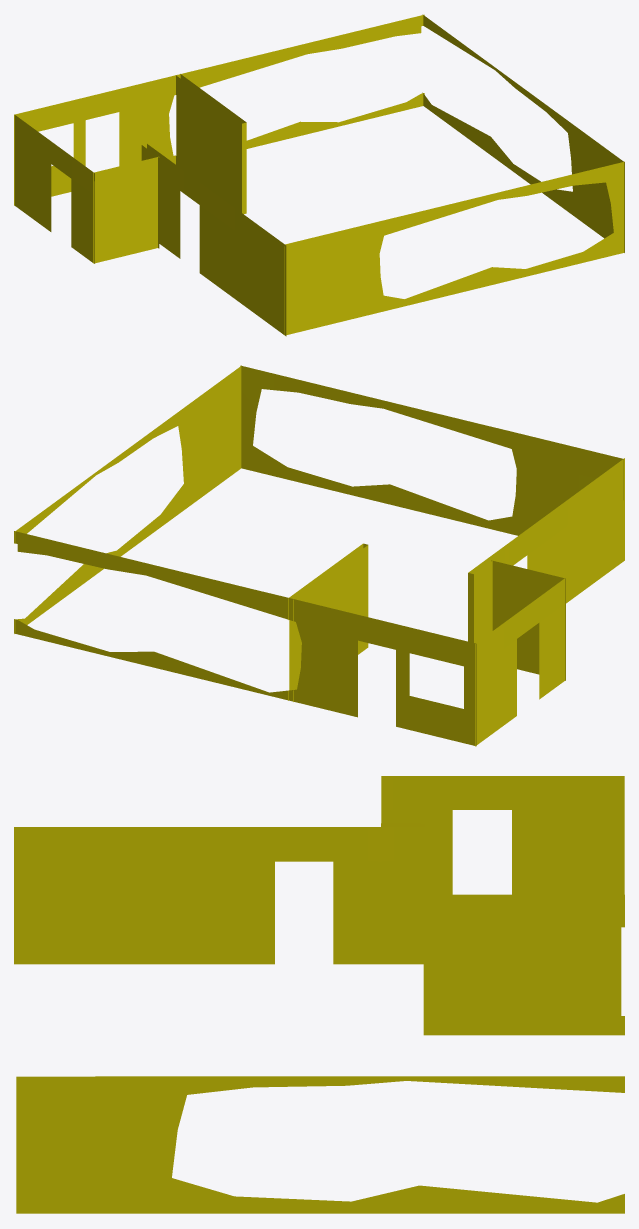
The model's file is BH03_WP_02_Break.fbx.
3 views of the same model, one above another, from view 1: azimuth 30°, elevation 25°; view 2: azimuth 150°, elevation 25°; view 3: azimuth 270°, elevation 25° (orthographic). The views are drawn at different scales.
Visible parts, largest first — view 1: BH03_WP_02_Break; view 2: BH03_WP_02_Break; view 3: BH03_WP_02_Break.
Part boxes in pixels (left/top/right/bottom): BH03_WP_02_Break: left=14, top=14, right=624, bottom=336; BH03_WP_02_Break: left=14, top=365, right=624, bottom=746; BH03_WP_02_Break: left=14, top=776, right=624, bottom=1213.
Size of the model in its own units: 1415 by 300 by 1210.
